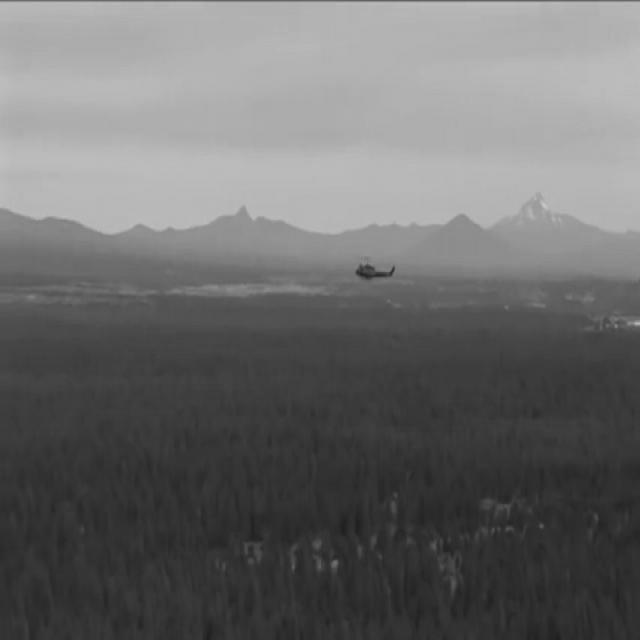helikopter: (349, 245, 408, 303)
